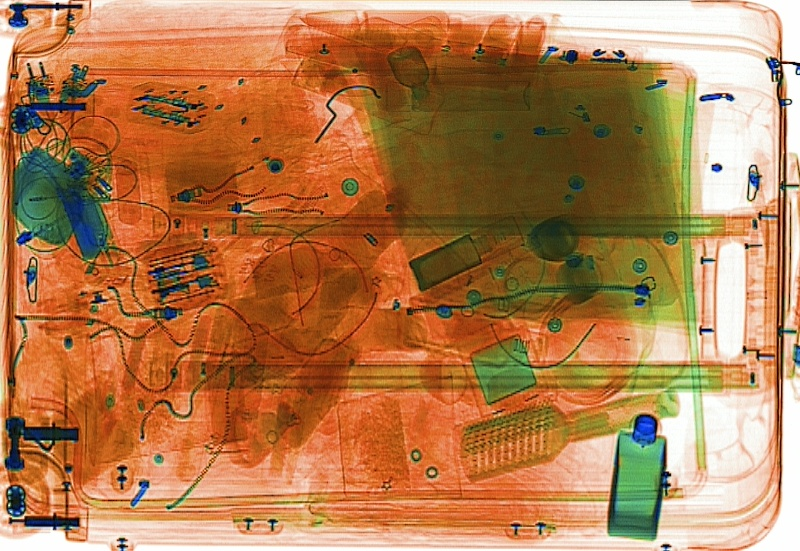pressure: (379, 75, 532, 114)
